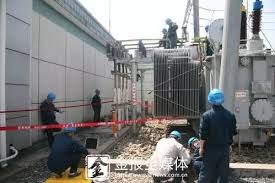blue: (206, 88, 226, 110), (63, 122, 76, 136), (169, 130, 181, 143), (45, 91, 56, 103)
